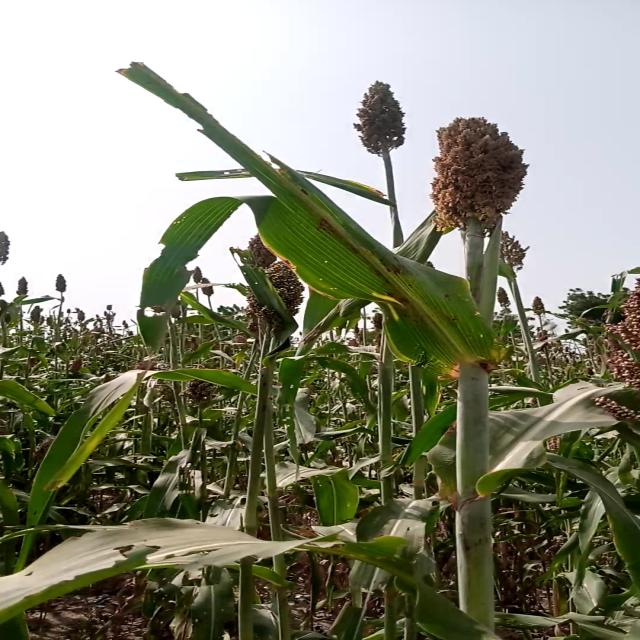UnripeSorghum: (412, 110, 551, 227)
